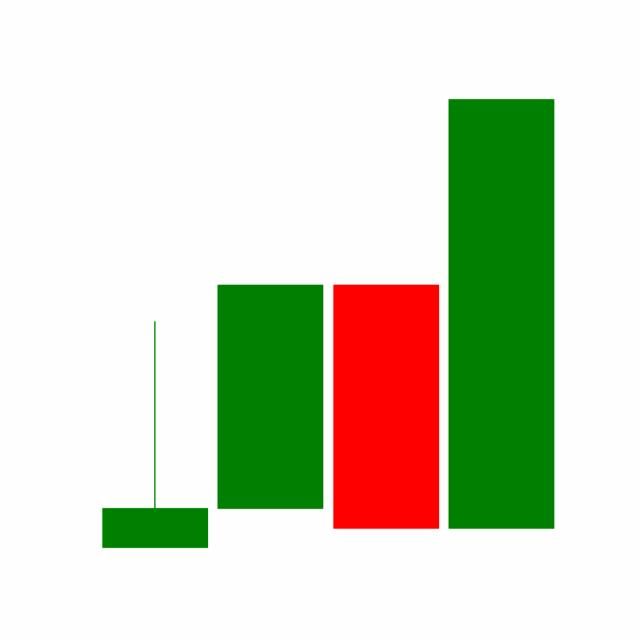Marubozu: (443, 94, 559, 533)
